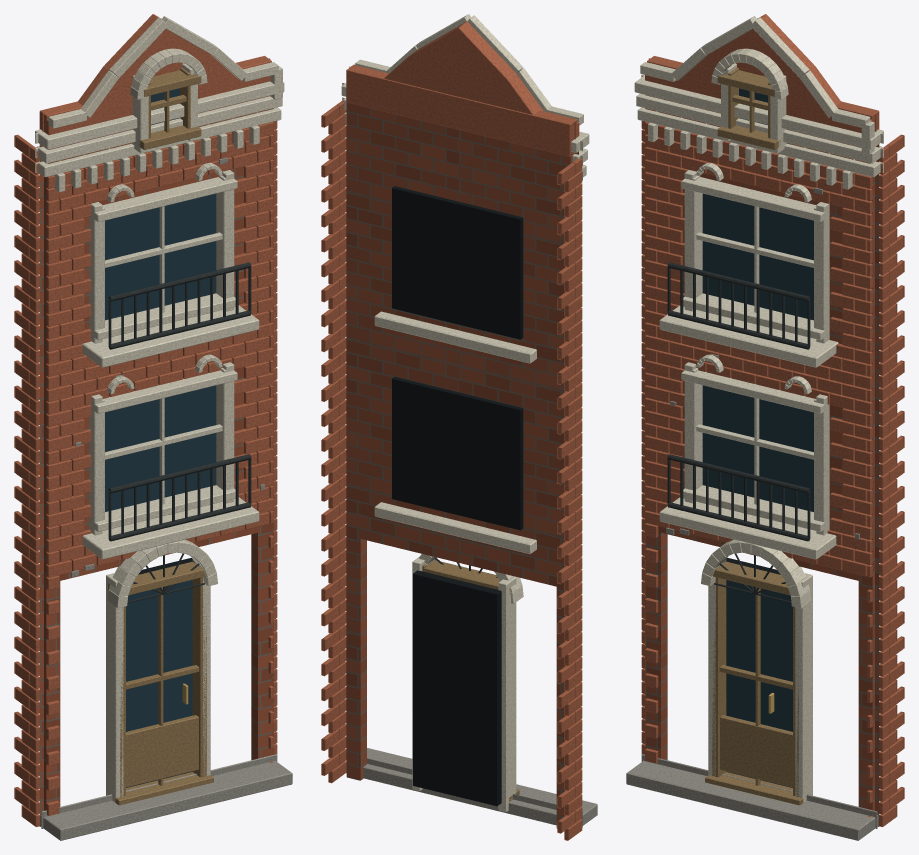
Rendered from VICT14_lod0.glb.
3 views of the same model, side by side, from view 1: azimuth 30°, elevation 25°; view 2: azimuth 150°, elevation 25°; view 3: azimuth 330°, elevation 25° (orthographic).
Visible parts, largest first — view 1: VICT14_FRONT_LOD0; view 2: VICT14_FRONT_LOD0; view 3: VICT14_FRONT_LOD0.
Boxes of the visible parts, left/top/right/bottom form: VICT14_FRONT_LOD0: left=14, top=14, right=292, bottom=840; VICT14_FRONT_LOD0: left=321, top=14, right=597, bottom=840; VICT14_FRONT_LOD0: left=626, top=14, right=904, bottom=840.
Bounding box in the file's own units: 3.44 × 10.64 × 1.13.
12 materials, 9 textured.
